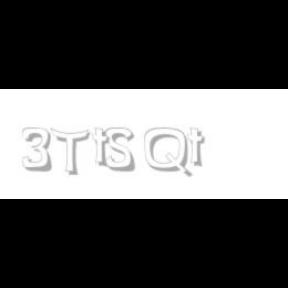3: (22, 128, 54, 172)
Q: (144, 128, 190, 178)
S: (106, 128, 136, 172)
T: (50, 128, 90, 176)
t: (92, 128, 114, 168), (187, 128, 209, 168)
